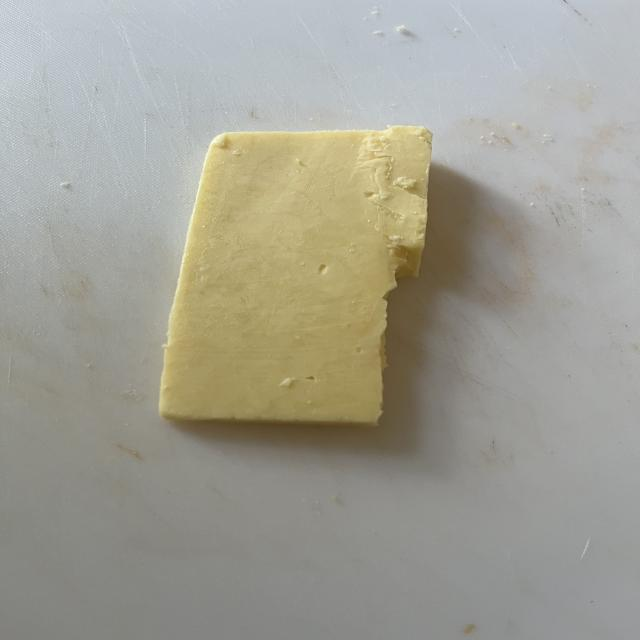cheese: (160, 126, 431, 424)
